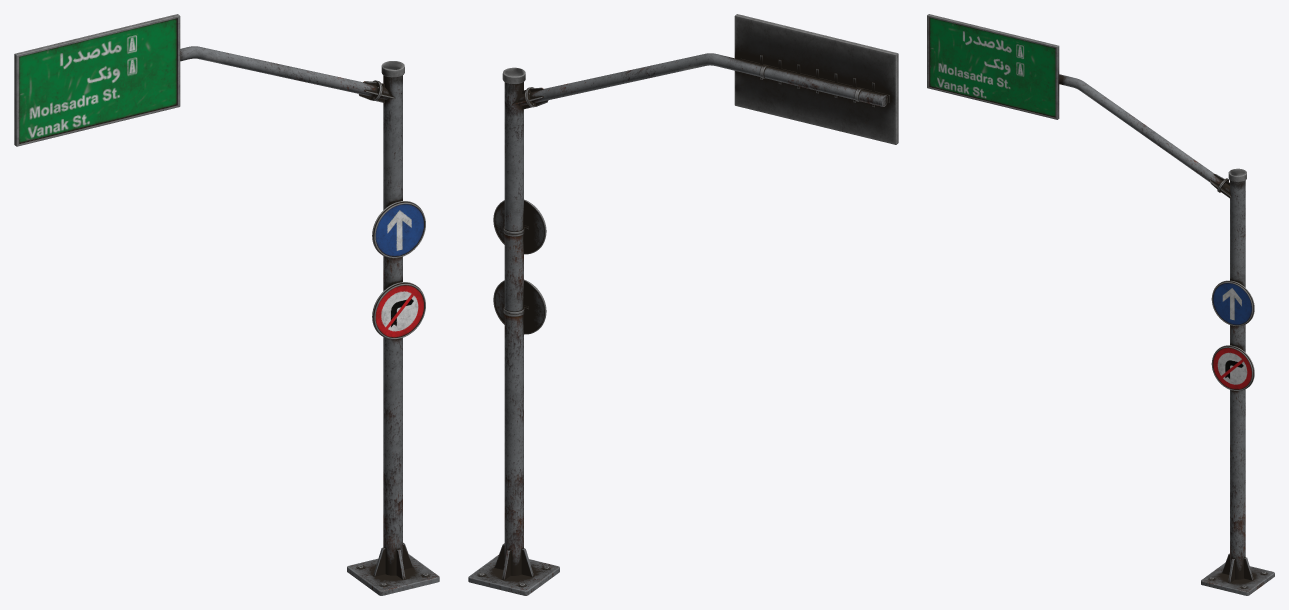
3 views of the same model, side by side, from view 1: azimuth 30°, elevation 25°; view 2: azimuth 150°, elevation 25°; view 3: azimuth 330°, elevation 25° (orthographic). The views are drawn at different scales.
Visible parts, largest first — view 1: Cube, Cylinder, TSJI_road_sign_003, Disc_1, Disc, Polygon, Cloner; view 2: Cube, Cylinder, TSJI_road_sign_003, Polygon, Disc, Disc_1, Cloner; view 3: Cube, Cylinder, TSJI_road_sign_003, Disc_1, Disc, Polygon.
Boxes of the visible parts, bbox=[...] form: Cube: bbox=[14, 14, 180, 146]; Cylinder: bbox=[381, 61, 404, 575]; TSJI_road_sign_003: bbox=[180, 46, 389, 100]; Disc_1: bbox=[372, 282, 425, 339]; Disc: bbox=[372, 201, 425, 258]; Polygon: bbox=[347, 554, 439, 595]; Cloner: bbox=[373, 542, 412, 579]; Cube: bbox=[734, 14, 898, 144]; Cylinder: bbox=[502, 67, 525, 575]; TSJI_road_sign_003: bbox=[518, 53, 887, 107]; Polygon: bbox=[468, 555, 559, 595]; Disc: bbox=[493, 199, 546, 254]; Disc_1: bbox=[493, 279, 546, 334]; Cloner: bbox=[494, 543, 533, 580]; Cube: bbox=[927, 14, 1059, 119]; Cylinder: bbox=[1228, 168, 1246, 579]; TSJI_road_sign_003: bbox=[1059, 74, 1229, 193]; Disc_1: bbox=[1211, 345, 1254, 390]; Disc: bbox=[1211, 280, 1254, 326]; Polygon: bbox=[1201, 562, 1274, 595].
Bounding box in the file's own units: 4.81 × 6.88 × 0.7.
Materials: 1 (1 with a texture image).
